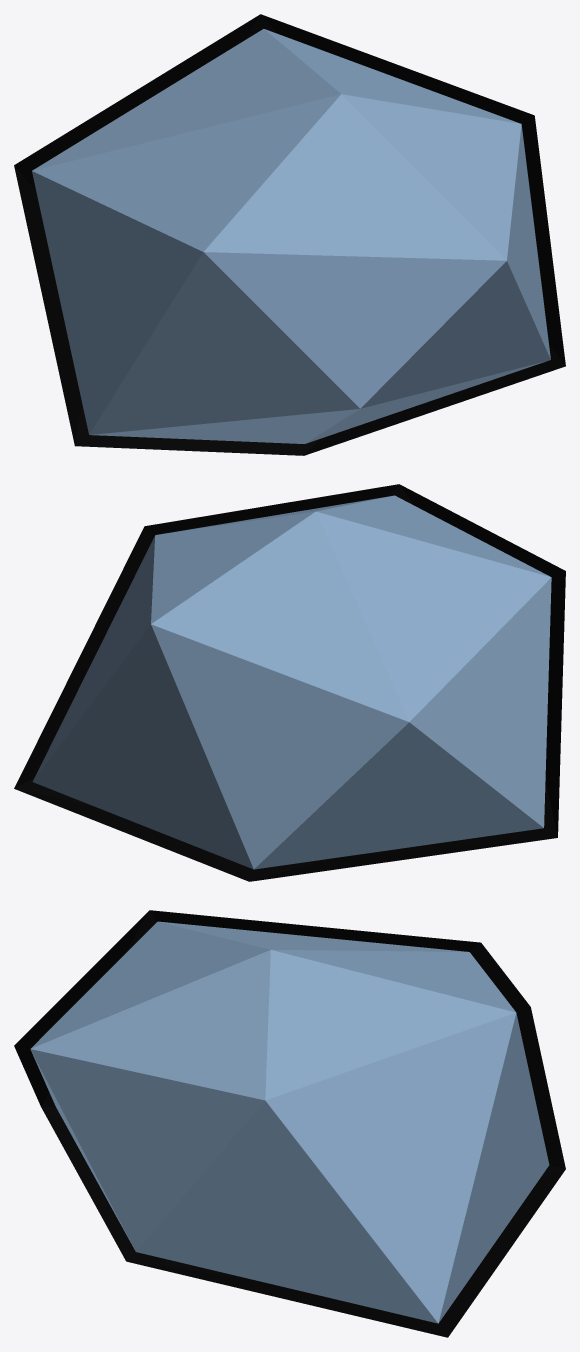
File: PaperBall.fbx
3 views of the same model, one above another, from view 1: azimuth 30°, elevation 25°; view 2: azimuth 150°, elevation 25°; view 3: azimuth 270°, elevation 25° (orthographic). The views are drawn at different scales.
Visible parts, largest first — view 1: Icosphere; view 2: Icosphere; view 3: Icosphere.
Boxes of the visible parts, <box> form: Icosphere: <box>14,14,565,455</box>; Icosphere: <box>14,484,565,881</box>; Icosphere: <box>14,910,565,1337</box>.
Size of the model in its own units: 116 by 82.62 by 116.
